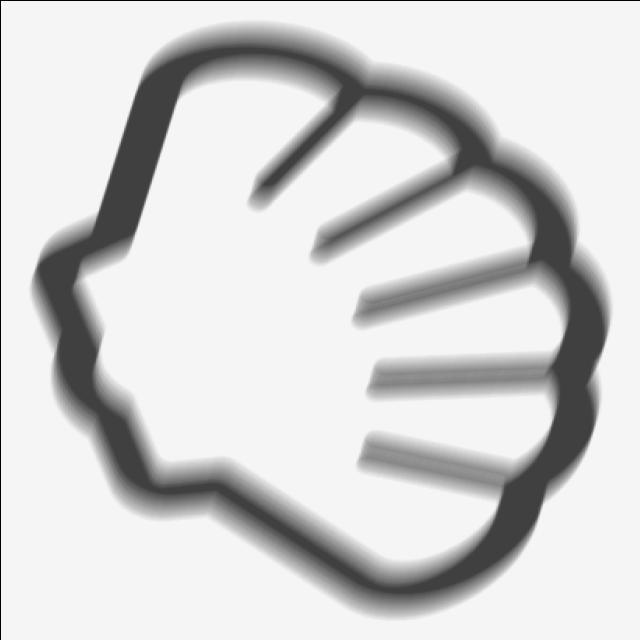shell: (17, 10, 623, 629)
